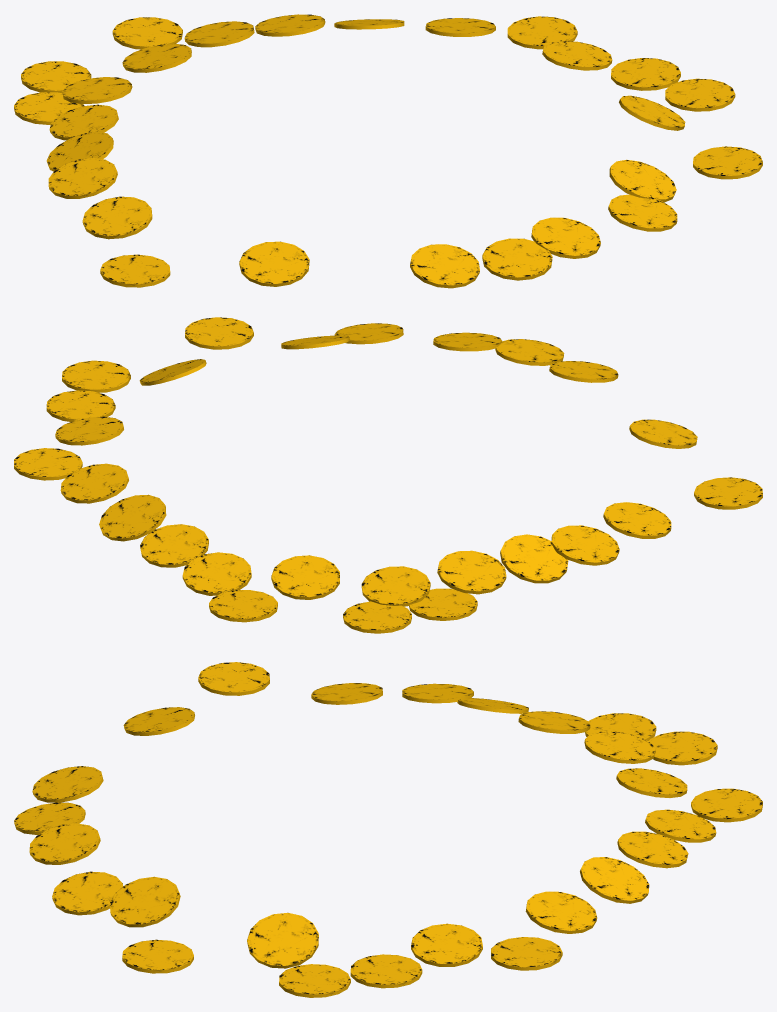
The model's file is Coins.fbx.
3 renders of one model, top to bottom at view 1: azimuth 30°, elevation 25°; view 2: azimuth 150°, elevation 25°; view 3: azimuth 270°, elevation 25°, orthographic. The views are drawn at different scales.
Parts seen in each view (by area): view 1: low_coin34, low_coin2, low_coin35, low_coin42, low_coin9, low_coin3, low_coin36, low_coin14, low_coin11, low_coin8, low_coin10, low_coin7 (+14 smaller); view 2: low_coin41, low_coin39, low_coin40, low_coin32, low_coin37, low_coin1, low_coin4, low_coin3, low_coin33, low_coin42, low_coin10, low_coin11 (+14 smaller); view 3: low_coin30, low_coin36, low_coin38, low_coin37, low_coin33, low_coin14, low_coin9, low_coin10, low_coin13, low_coin7, low_coin12, low_coin11 (+14 smaller).
Boxes of the visible parts, x1,y1,x2,y2 form: low_coin34: (239,241,309,286); low_coin2: (410,244,479,288); low_coin35: (482,238,552,280); low_coin42: (82,196,152,239); low_coin9: (531,217,600,258); low_coin3: (48,158,117,198); low_coin36: (609,159,676,202); low_coin14: (608,194,677,231); low_coin11: (100,254,170,287); low_coin8: (665,78,735,111); low_coin10: (693,146,762,179); low_coin7: (611,58,680,90); low_coin41: (500,534,568,583); low_coin39: (271,555,339,599); low_coin40: (437,550,506,594); low_coin32: (182,552,251,595); low_coin37: (99,494,166,541); low_coin1: (140,524,208,567); low_coin4: (361,566,430,606); low_coin3: (551,525,619,565); low_coin33: (60,463,128,503); low_coin42: (603,502,671,538); low_coin10: (185,317,253,349); low_coin11: (694,477,762,509); low_coin30: (247,912,318,968); low_coin36: (110,876,180,927); low_coin38: (411,923,482,966); low_coin37: (580,857,649,903); low_coin33: (525,891,597,933); low_coin14: (52,871,123,915); low_coin9: (29,823,100,864); low_coin10: (122,939,193,973); low_coin13: (491,937,562,970); low_coin7: (350,954,422,988); low_coin12: (691,788,762,822); low_coin11: (198,662,269,695).
Bounding box in the file's own units: 357 × 14.3 × 340.
